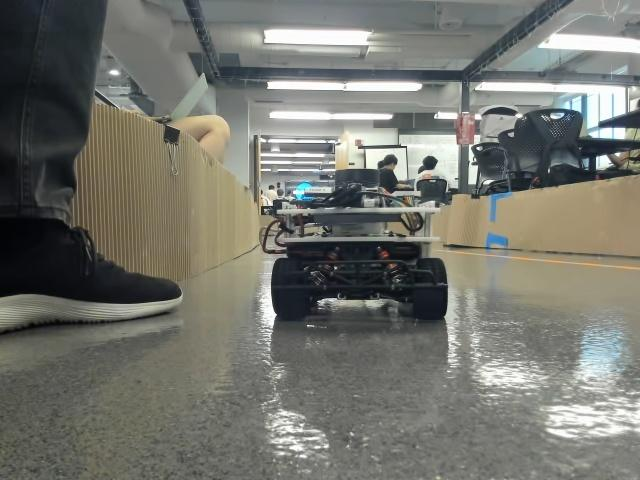Car: (257, 162, 448, 321)
